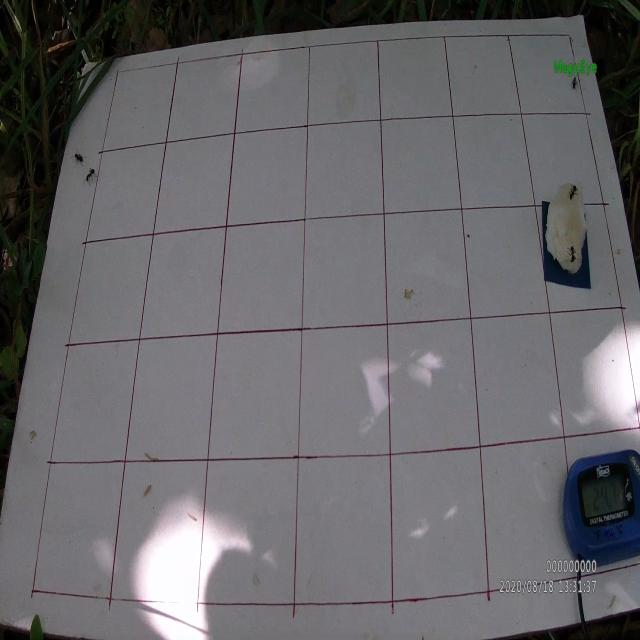Ant: (83, 167, 97, 185), (566, 242, 577, 264), (72, 150, 86, 167), (568, 183, 578, 201), (570, 71, 578, 91)
